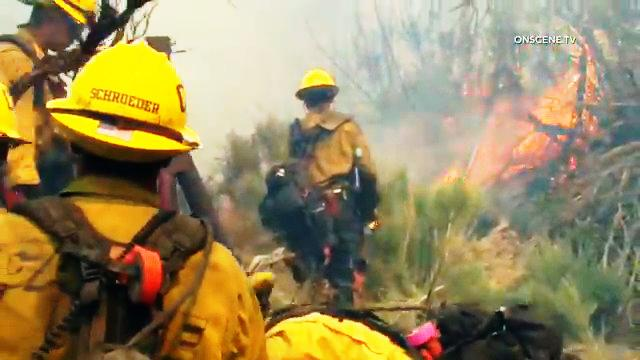fire: (490, 59, 630, 161)
